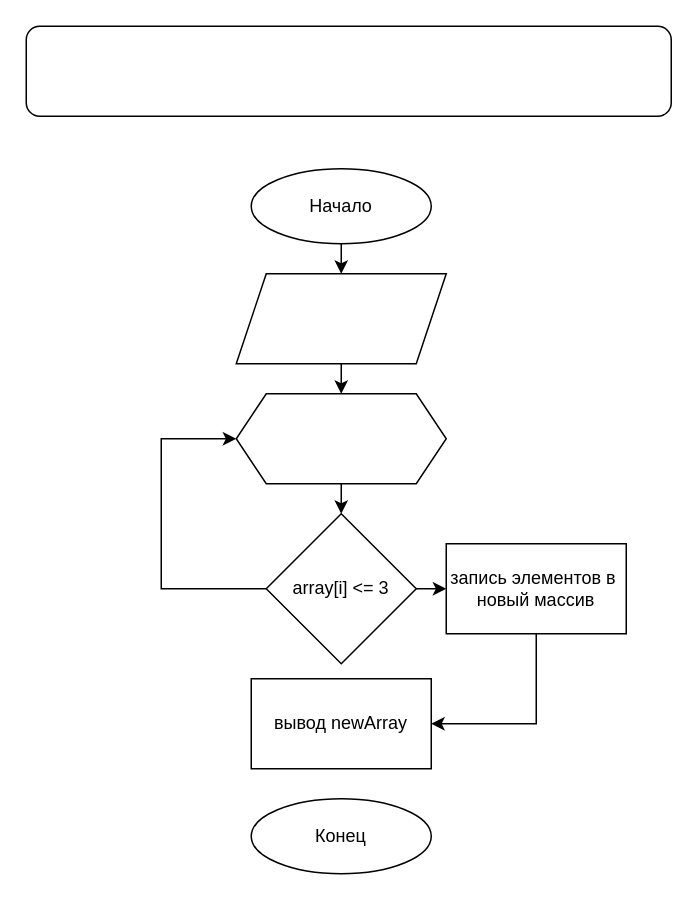
Image size: 698x900. Some labels were removed from this diagram. The shapes that lost their labels are listed below. From the top down, each one's centre as x and y in pixels, then its label:
pixel 348 70: Блок-схема выборки элементов менее 3х символов из заданного строкового массива
pixel 340 318: ввод массива string[] array
pixel 340 438: в цикле for i от 0 до i=array.Length
